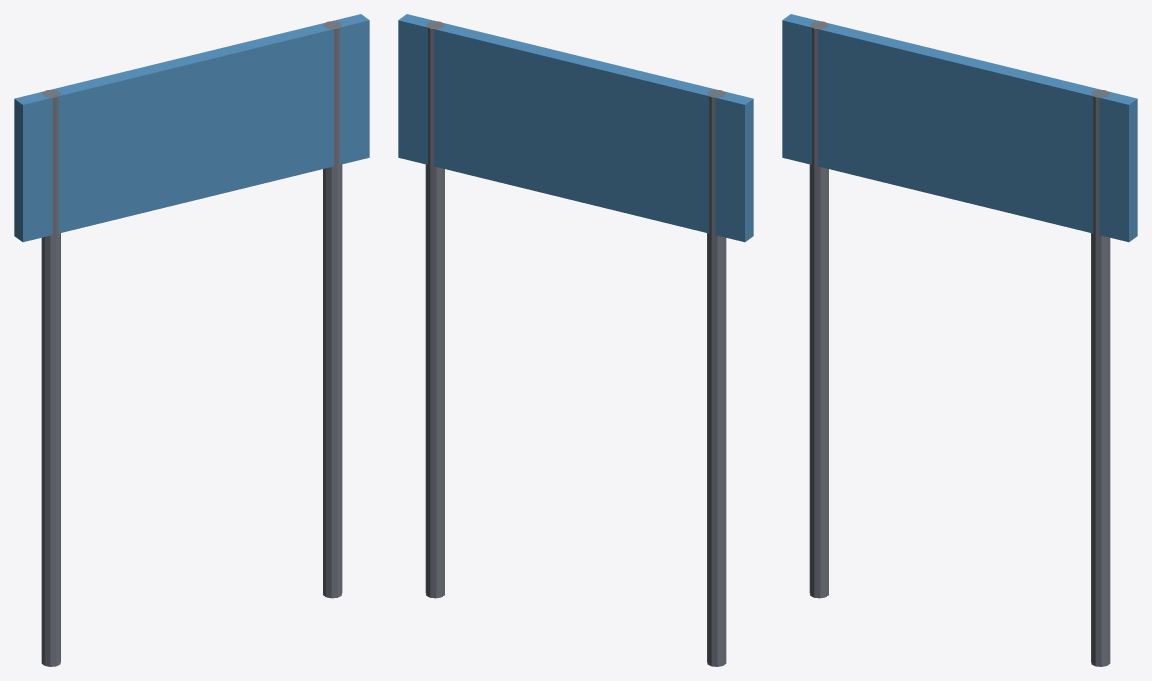
Rendered from Prop_StreetSign.fbx.
3 renders of one model, left to right at view 1: azimuth 30°, elevation 25°; view 2: azimuth 150°, elevation 25°; view 3: azimuth 330°, elevation 25°, orthographic.
Parts seen in each view (by area): view 1: Sign_Board, Cylinder, Cylinder.001; view 2: Sign_Board, Cylinder, Cylinder.001; view 3: Sign_Board, Cylinder.001, Cylinder.
Part boxes in pixels (x1,y1,x2,y2): Sign_Board: (14,14,369,242); Cylinder: (41,89,60,666); Cylinder.001: (323,21,342,598); Sign_Board: (398,14,753,242); Cylinder: (707,89,726,666); Cylinder.001: (425,21,444,598); Sign_Board: (782,14,1137,242); Cylinder.001: (1091,89,1110,666); Cylinder: (809,21,828,598).
Bounding box in the file's own units: 1.85 × 2.9 × 0.09.
